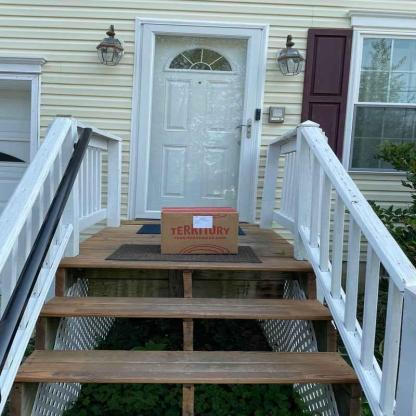package: (161, 206, 239, 256)
